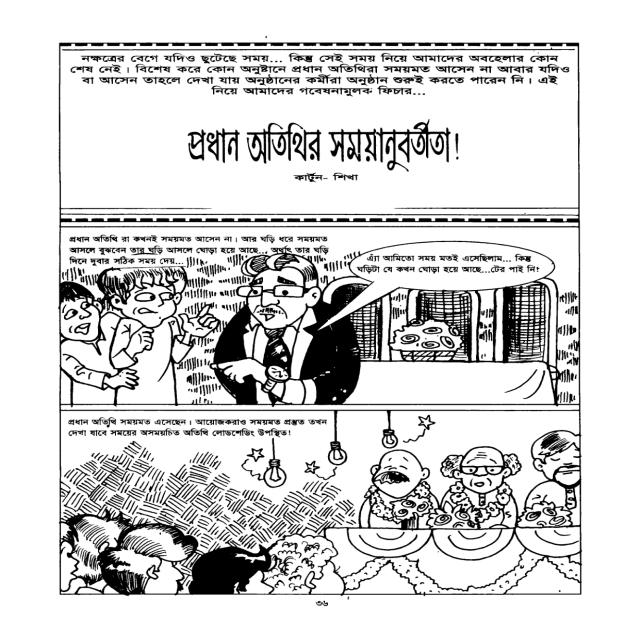image: (57, 411, 583, 595), (58, 228, 579, 403)
page number: (311, 598, 333, 610)
paragraph: (75, 48, 565, 101), (61, 232, 330, 265), (62, 415, 332, 439), (356, 252, 541, 277)
text: (288, 170, 362, 186)
title: (174, 120, 470, 170)
